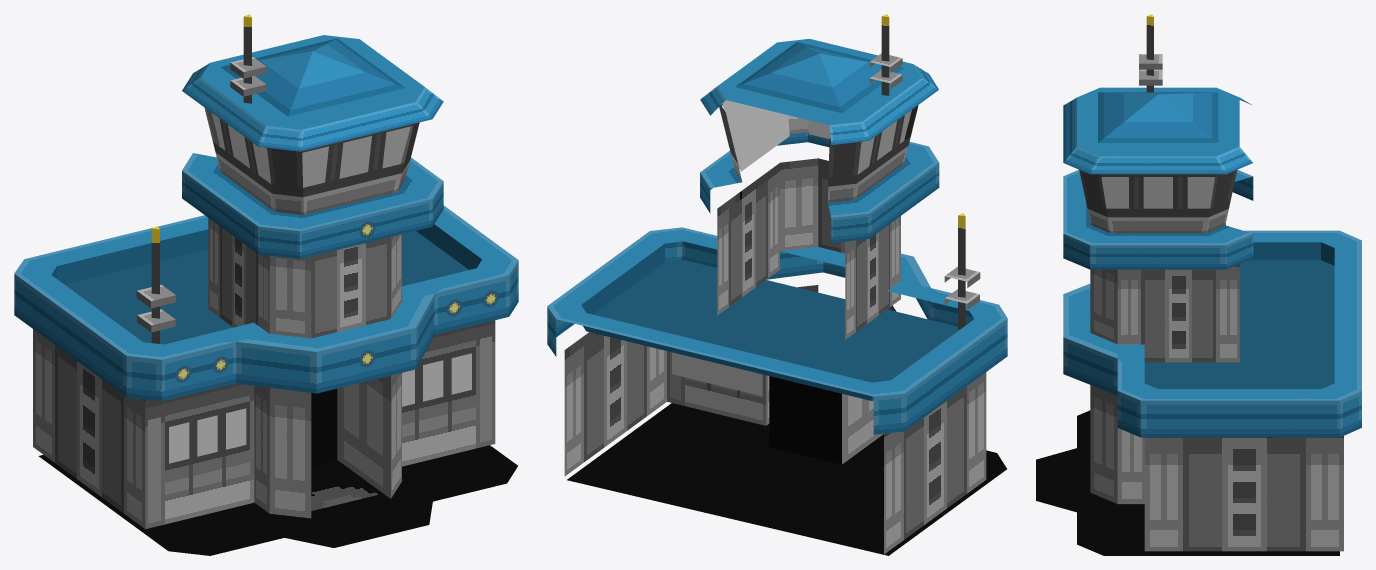
3 renders of one model, left to right at view 1: azimuth 30°, elevation 25°; view 2: azimuth 150°, elevation 25°; view 3: azimuth 270°, elevation 25°, orthographic. The views are drawn at different scales.
Visible parts, largest first — view 1: c6_ctower_01; view 2: c6_ctower_01; view 3: c6_ctower_01.
Boxes of the visible parts, bbox=[...] form: c6_ctower_01: bbox=[14, 14, 518, 555]; c6_ctower_01: bbox=[547, 14, 1007, 555]; c6_ctower_01: bbox=[1036, 14, 1361, 555].
Bounding box in the file's own units: 118 × 141 × 96.
